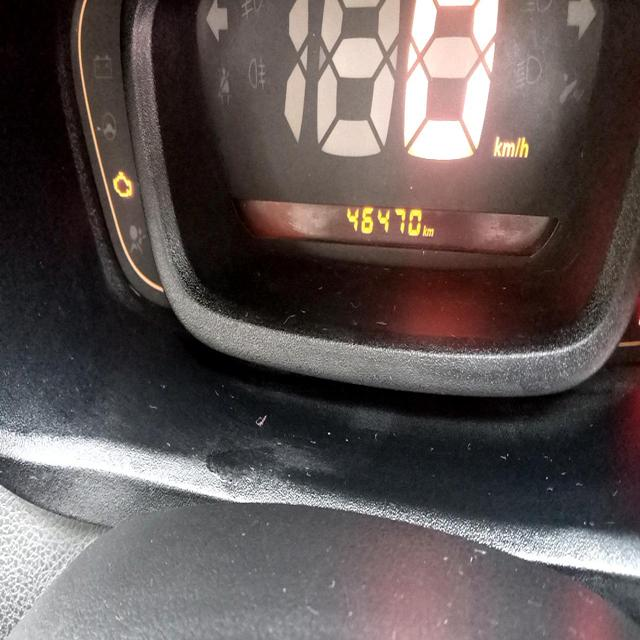odometer: (345, 205, 422, 239)
